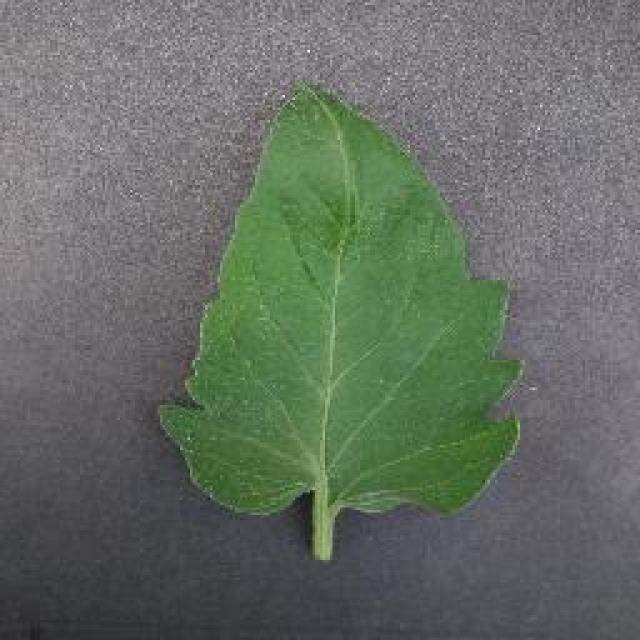Tomato healthy leaf: (162, 70, 536, 570)
